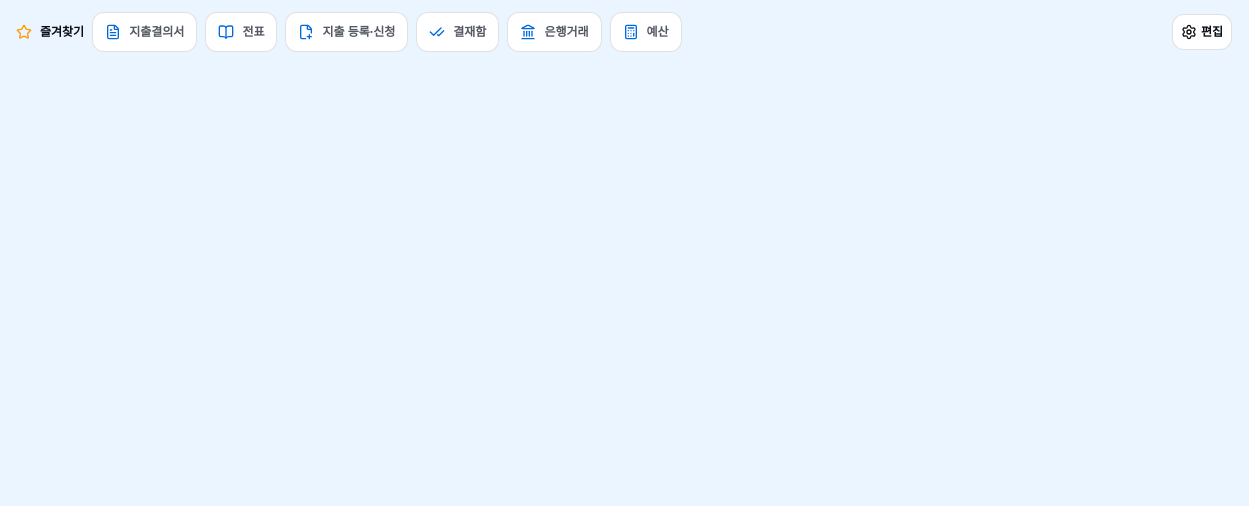
Test: personalized top favorites › keeps the draft when anonymous browser storage rejects saving
Click the button with aria-label "즐겨찾기 편집" at (1202, 32), box [1172, 14, 1232, 50]
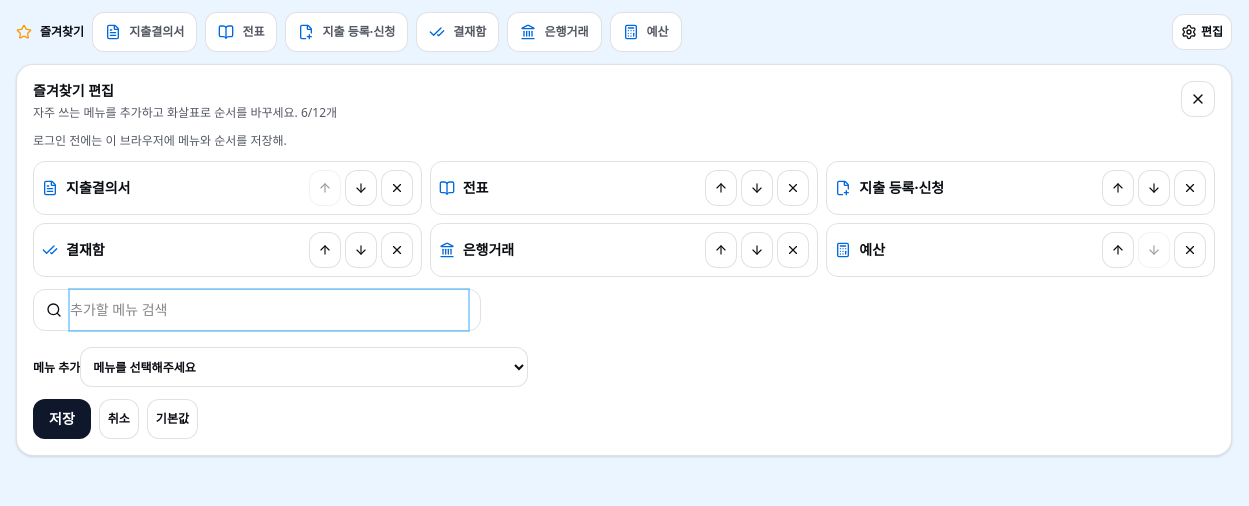
Now the element "즐겨찾기 편집" is shown
Click the button "저장" at (62, 419), box [33, 399, 91, 439]
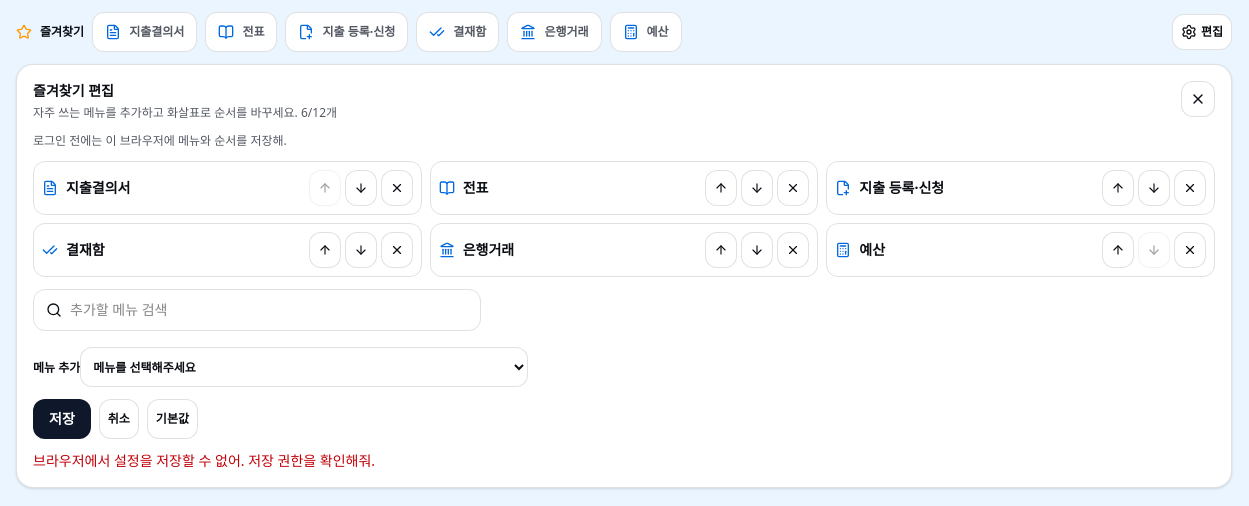
Now the element "즐겨찾기 편집" is shown
Now the message shows "저장할 수 없어", box [33, 451, 375, 470]
